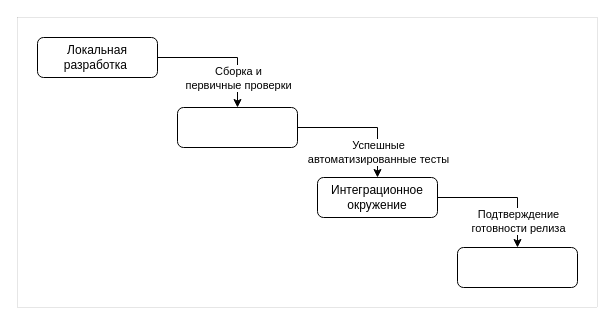
The diagram is 614 pixels wide and 324 high, and some of its shapes have lost their labels. The box of each missing label's shape, as (x1, y1, x2, y2) in pixels:
Промышленное окружение: (456, 246, 578, 288)
Тестовое окружение: (176, 106, 298, 148)
